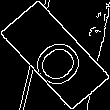O_NE: (21, 22, 89, 88)
